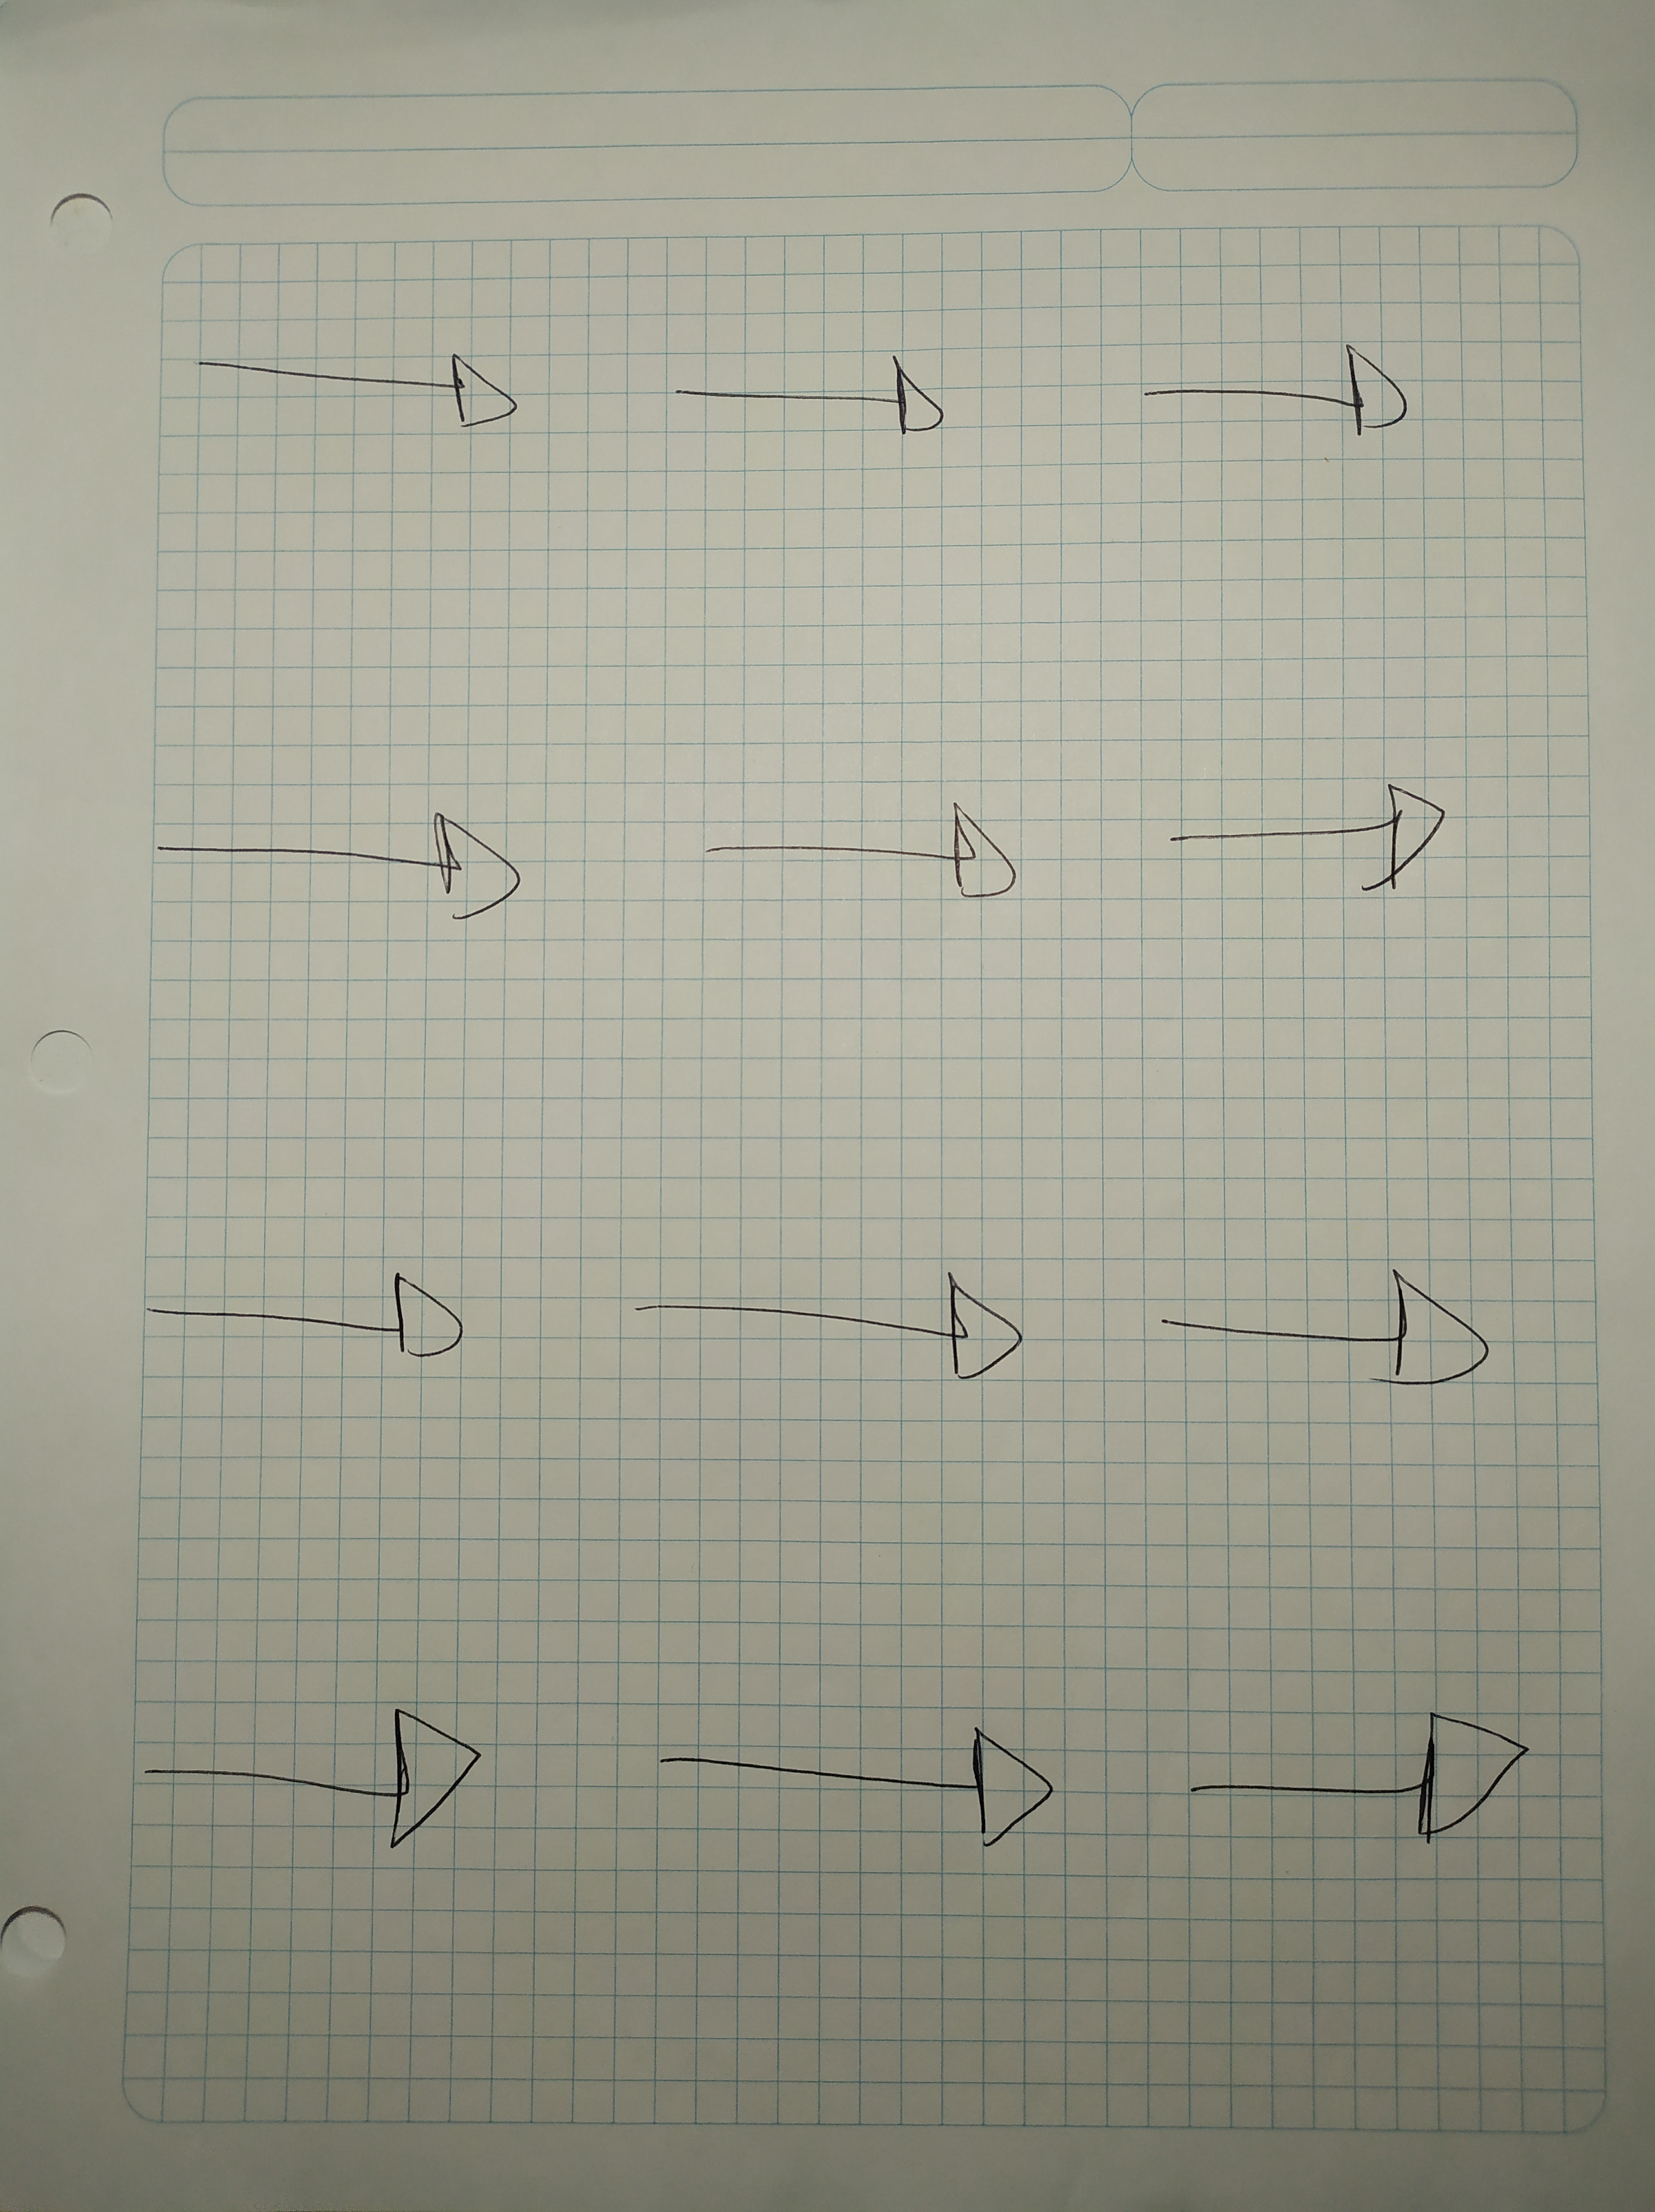arrow_line_right: (624, 1696, 1095, 1882), (600, 1239, 1038, 1421), (1161, 1682, 1561, 1866), (125, 777, 539, 950), (1116, 1253, 1533, 1423), (115, 1680, 501, 1858), (650, 778, 1074, 937), (118, 1229, 499, 1394), (1107, 311, 1462, 474), (1139, 763, 1483, 904), (172, 327, 553, 452), (641, 334, 991, 460)
